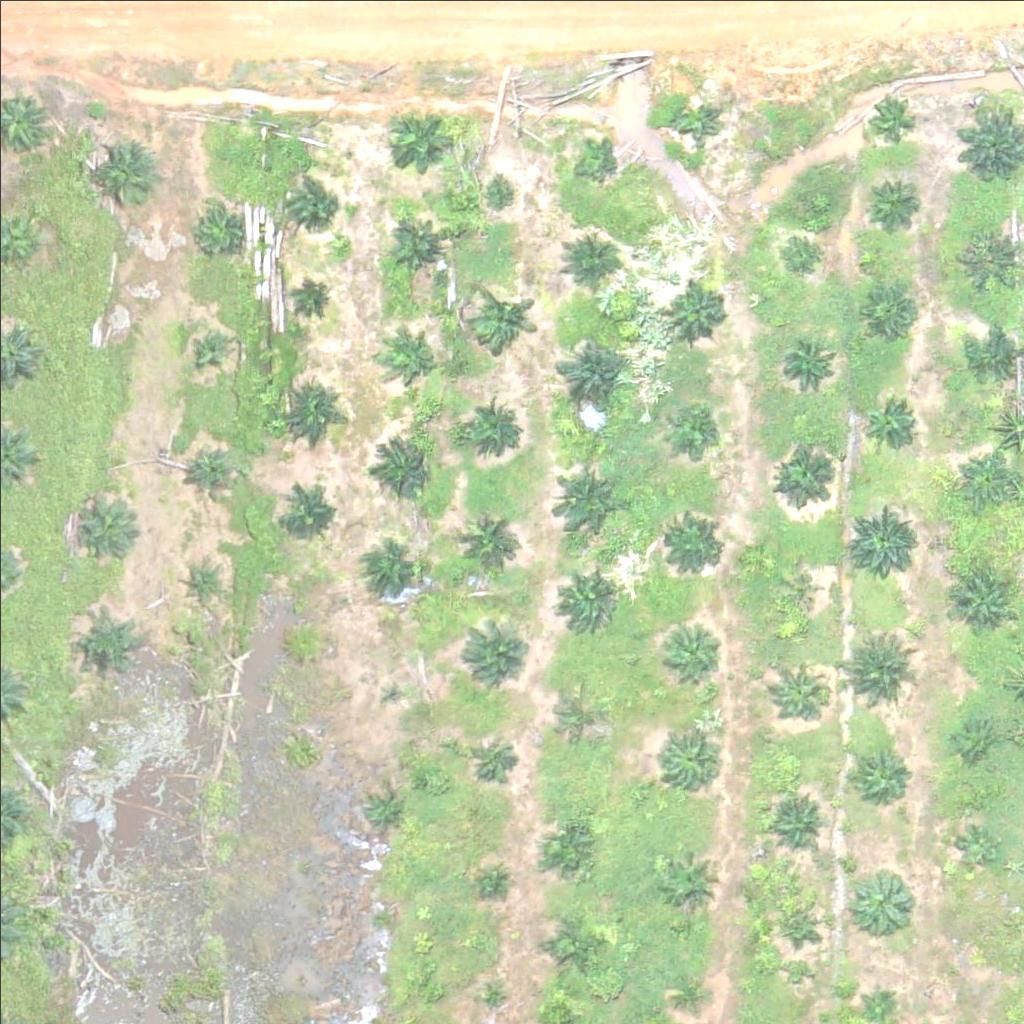Kelapa_Sawit: (454, 378, 529, 454), (551, 459, 626, 535), (458, 606, 533, 682), (450, 504, 525, 580), (83, 136, 158, 212), (462, 276, 537, 352), (846, 626, 921, 701), (844, 512, 919, 587), (553, 328, 628, 403), (852, 874, 915, 937), (65, 498, 128, 561), (76, 614, 139, 677), (361, 542, 424, 605), (776, 440, 839, 503), (771, 333, 834, 396), (384, 112, 447, 175), (557, 222, 620, 285), (385, 217, 448, 280), (665, 274, 728, 337), (954, 564, 1016, 627), (852, 747, 914, 810), (276, 380, 338, 443), (769, 790, 831, 853), (277, 480, 339, 543), (659, 510, 721, 573), (372, 435, 435, 497), (556, 568, 618, 631), (659, 846, 721, 909), (539, 813, 601, 876), (661, 726, 723, 789), (657, 615, 719, 678), (767, 661, 829, 724), (958, 224, 1020, 287), (540, 912, 602, 975), (964, 449, 1014, 500), (869, 398, 919, 449), (865, 285, 915, 336), (565, 136, 615, 187), (671, 94, 721, 145), (772, 227, 822, 278), (470, 732, 520, 783), (969, 328, 1019, 378), (389, 338, 439, 388), (670, 405, 720, 455), (870, 175, 920, 225), (288, 175, 338, 225), (188, 208, 238, 258), (186, 449, 236, 499), (555, 688, 605, 738), (864, 94, 914, 144), (356, 785, 406, 835), (775, 894, 825, 944), (181, 563, 219, 601), (191, 325, 229, 363), (482, 171, 520, 209), (284, 623, 322, 661), (470, 975, 508, 1013), (667, 970, 705, 1008), (953, 718, 990, 756), (297, 274, 334, 312), (778, 569, 815, 607), (958, 831, 995, 868), (481, 871, 506, 897), (377, 682, 402, 707)
